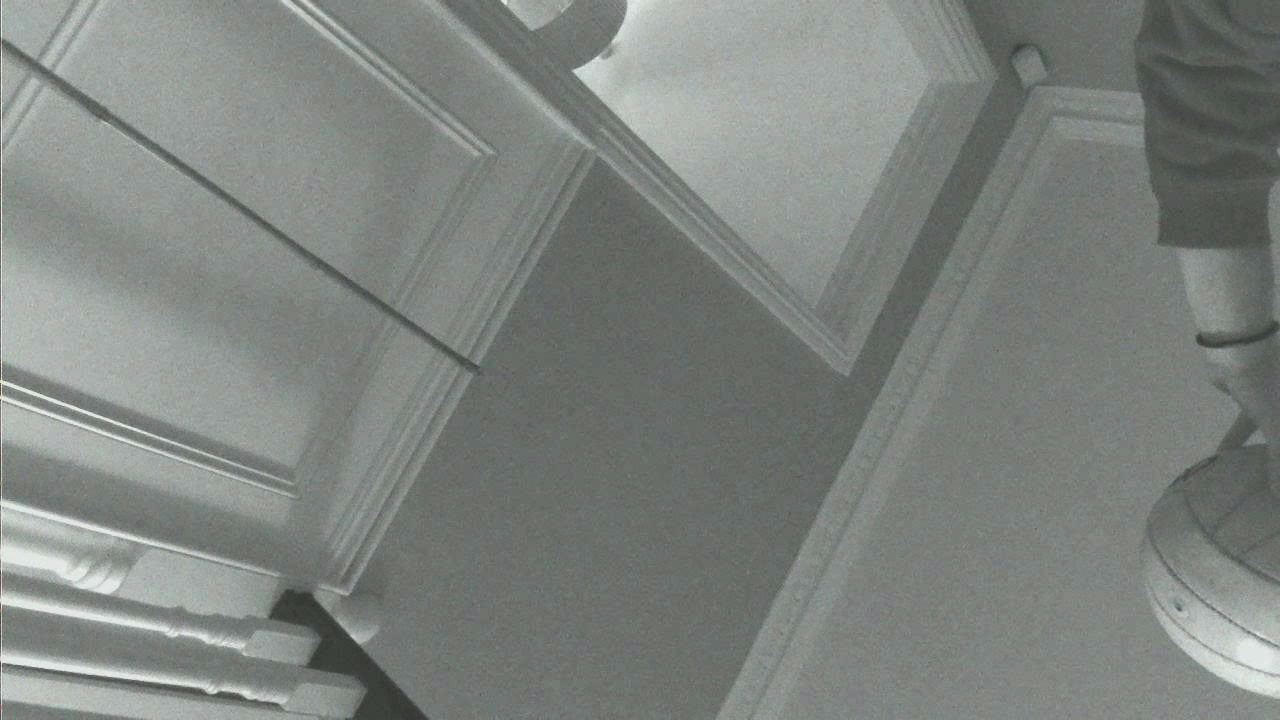Football-Spotter: (1141, 446, 1279, 698)
